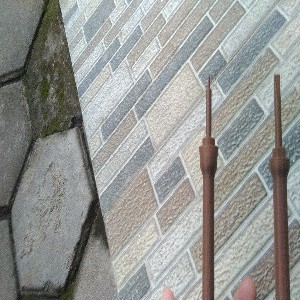obeng: (269, 74, 291, 300)
solder: (198, 75, 219, 300)
